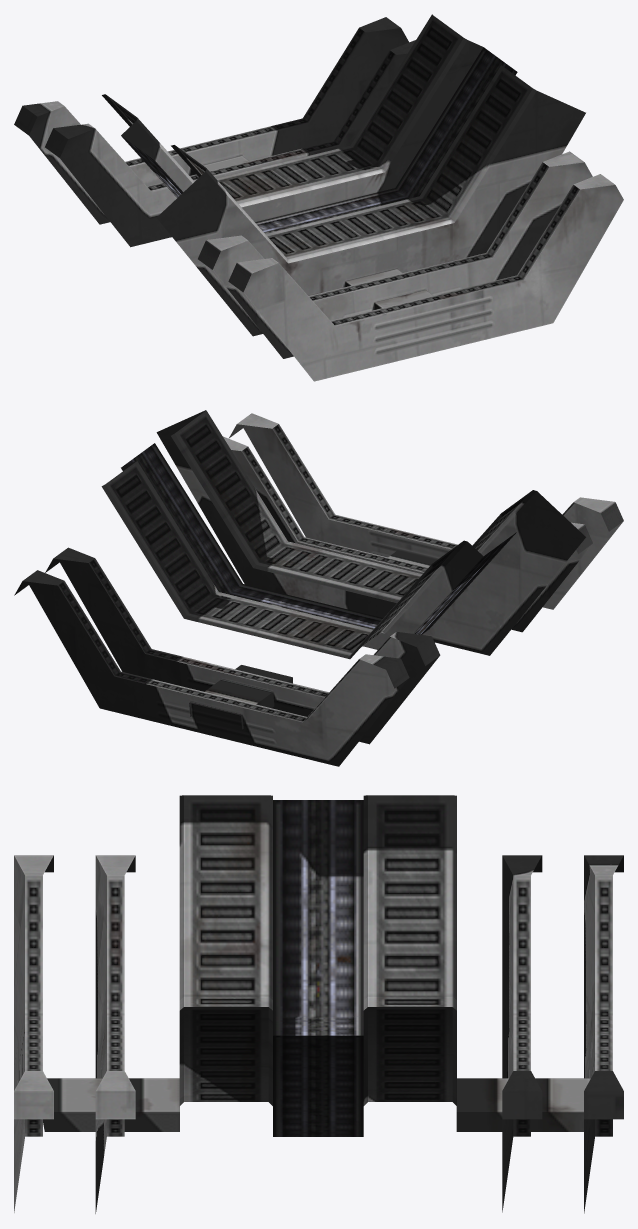
The model's file is OBJ_HalfPipe_Laser.FBX.
The picture shows the model from 3 angles, top to bottom: view 1: azimuth 30°, elevation 25°; view 2: azimuth 150°, elevation 25°; view 3: azimuth 270°, elevation 25°; orthographic projection. The views are drawn at different scales.
Visible parts, largest first — view 1: OBJ_HalfPipe_Laser; view 2: OBJ_HalfPipe_Laser; view 3: OBJ_HalfPipe_Laser.
Boxes of the visible parts, x1,y1,x2,y2 form: OBJ_HalfPipe_Laser: (14, 14, 623, 381); OBJ_HalfPipe_Laser: (14, 410, 623, 766); OBJ_HalfPipe_Laser: (14, 795, 623, 1213).
Bounding box in the file's own units: 27.05 × 10.71 × 25.01.
1 material, 1 textured.
